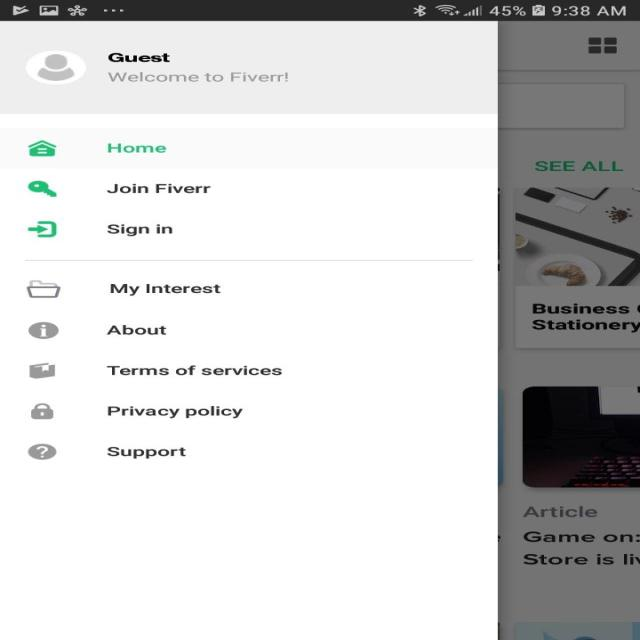Drawer: (0, 21, 497, 639)
Icon: (24, 50, 86, 85), (26, 280, 61, 298), (28, 321, 58, 339), (27, 140, 57, 157), (28, 220, 58, 237), (27, 443, 57, 460), (30, 402, 54, 420)
Image: (28, 180, 58, 197), (28, 362, 56, 379)
Text: (106, 364, 282, 376), (107, 71, 289, 82), (106, 405, 244, 418), (110, 283, 220, 296), (106, 183, 210, 193), (106, 446, 186, 458), (106, 224, 174, 236), (106, 324, 168, 335), (108, 142, 168, 153), (108, 52, 170, 62)
